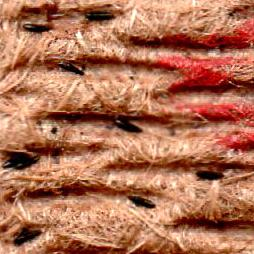egg: (14, 227, 40, 245), (12, 155, 39, 171), (114, 117, 142, 130), (58, 61, 83, 74), (2, 156, 26, 168), (128, 196, 154, 207), (86, 13, 113, 20), (23, 24, 49, 31), (197, 172, 223, 179)
